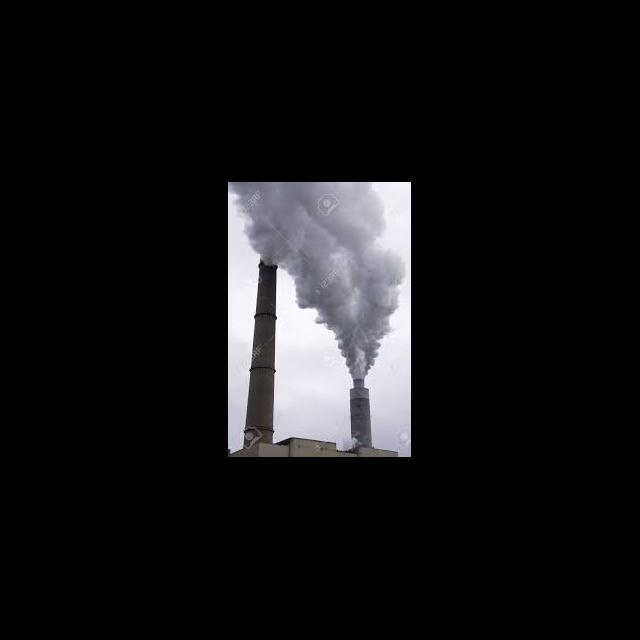Smoke: (228, 182, 410, 374)
